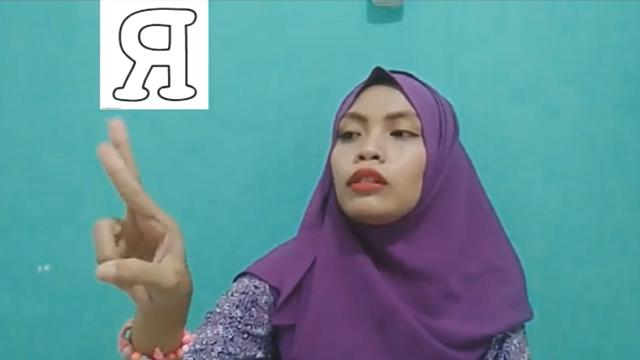R: (76, 117, 198, 314)
